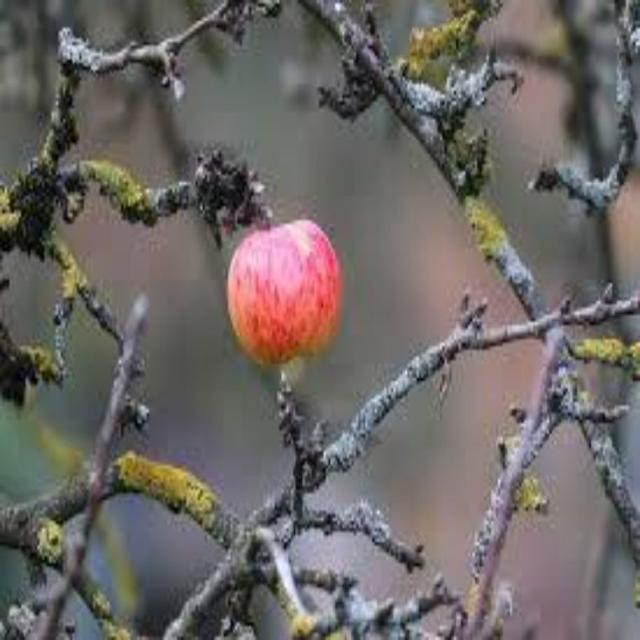Rotten Apple: (221, 208, 349, 371)
